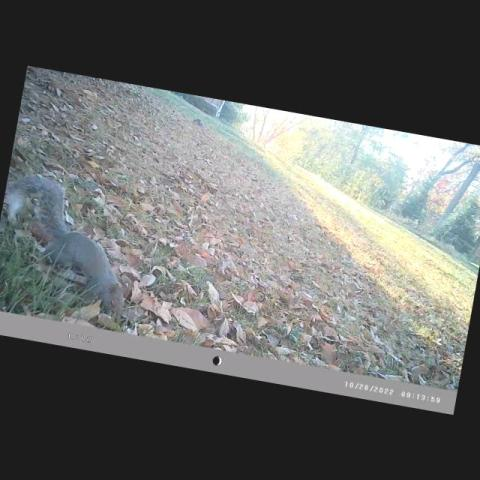small_animal: (3, 172, 125, 317), (191, 115, 208, 130)
